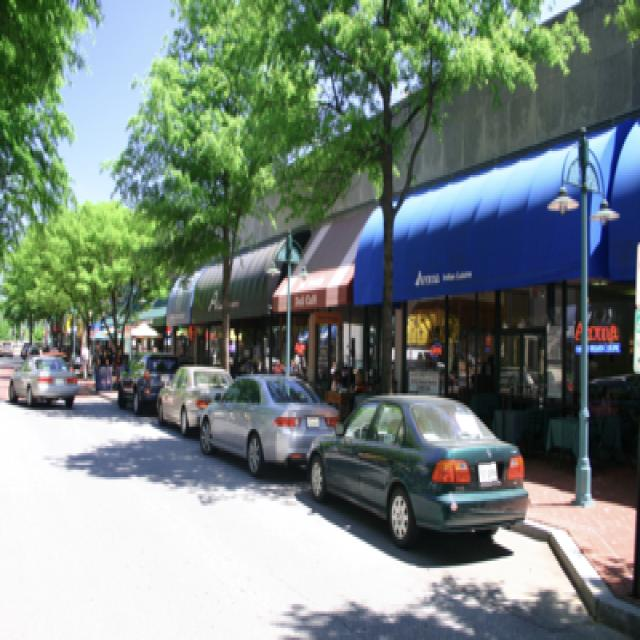licence: (474, 460, 504, 489)
